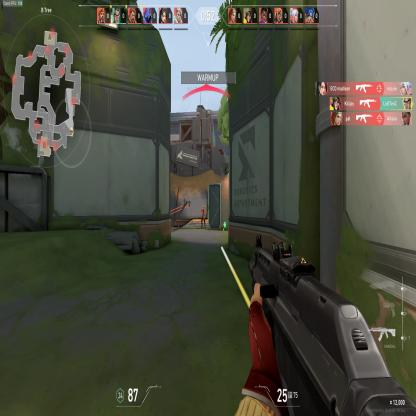enemy: (200, 205, 206, 228)
